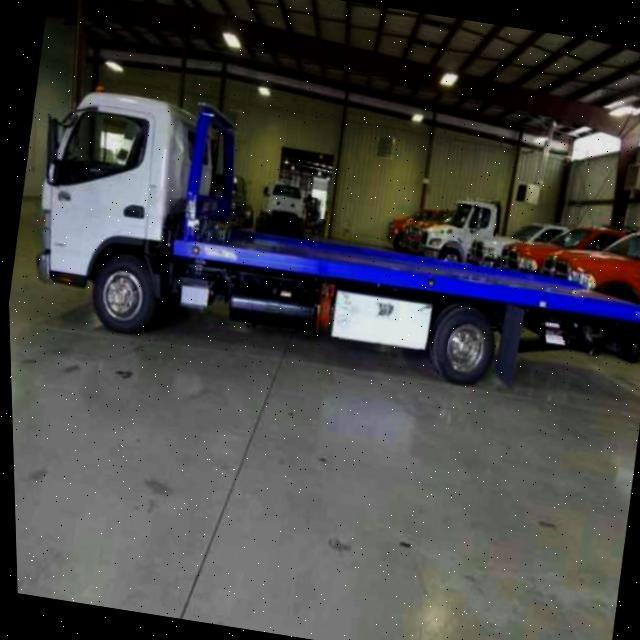truck: (10, 80, 640, 412)
